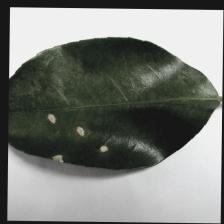canker: (42, 108, 117, 165)
